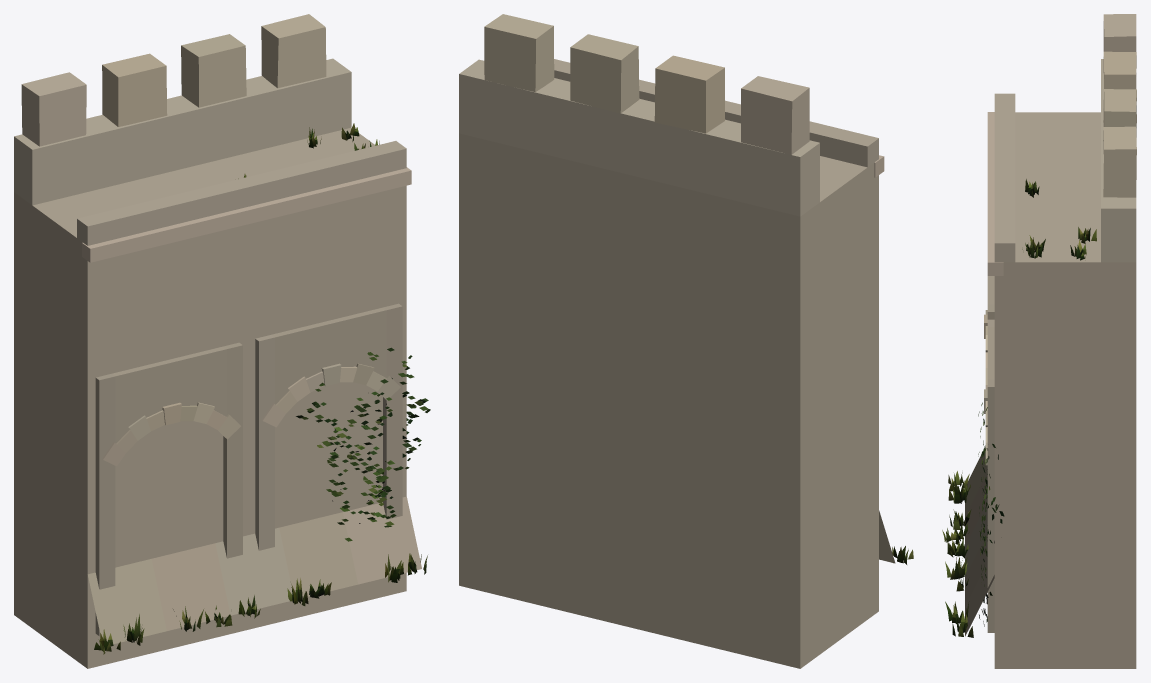
File: muralla_almena.glb
The picture shows the model from 3 angles, left to right: view 1: azimuth 30°, elevation 25°; view 2: azimuth 150°, elevation 25°; view 3: azimuth 270°, elevation 25°; orthographic projection. The views are drawn at different scales.
Parts seen in each view (by area): view 1: muralla_almena_fijo, muralla_almena_vegetacion; view 2: muralla_almena_fijo; view 3: muralla_almena_fijo, muralla_almena_vegetacion.
Part boxes in pixels (left/top/right/bottom): muralla_almena_fijo: left=14, top=14, right=421, bottom=668; muralla_almena_vegetacion: left=94, top=123, right=430, bottom=654; muralla_almena_fijo: left=459, top=14, right=895, bottom=668; muralla_almena_fijo: left=965, top=14, right=1136, bottom=668; muralla_almena_vegetacion: left=942, top=179, right=1096, bottom=637.
Size of the model in its own units: 6.66 by 9.51 by 3.3.
